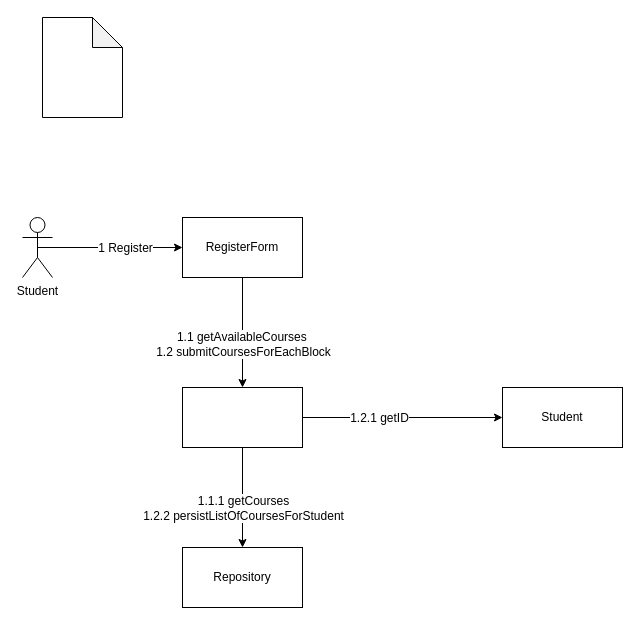
Some shapes in this 640 by 625 pixel diagram are drawn without their labels. The centre of each missing label's shape, as x and y in pixels:
Register Course Collaboration Diagram: pixel 82 67
RegisterController: pixel 242 417
